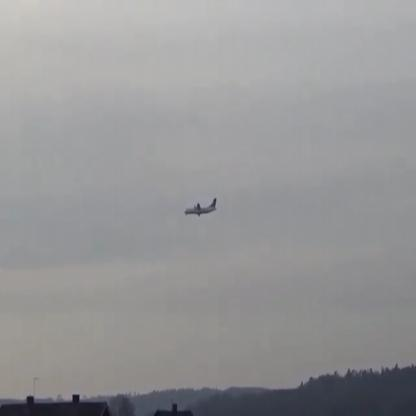CIV_Plane: (184, 196, 217, 218)
